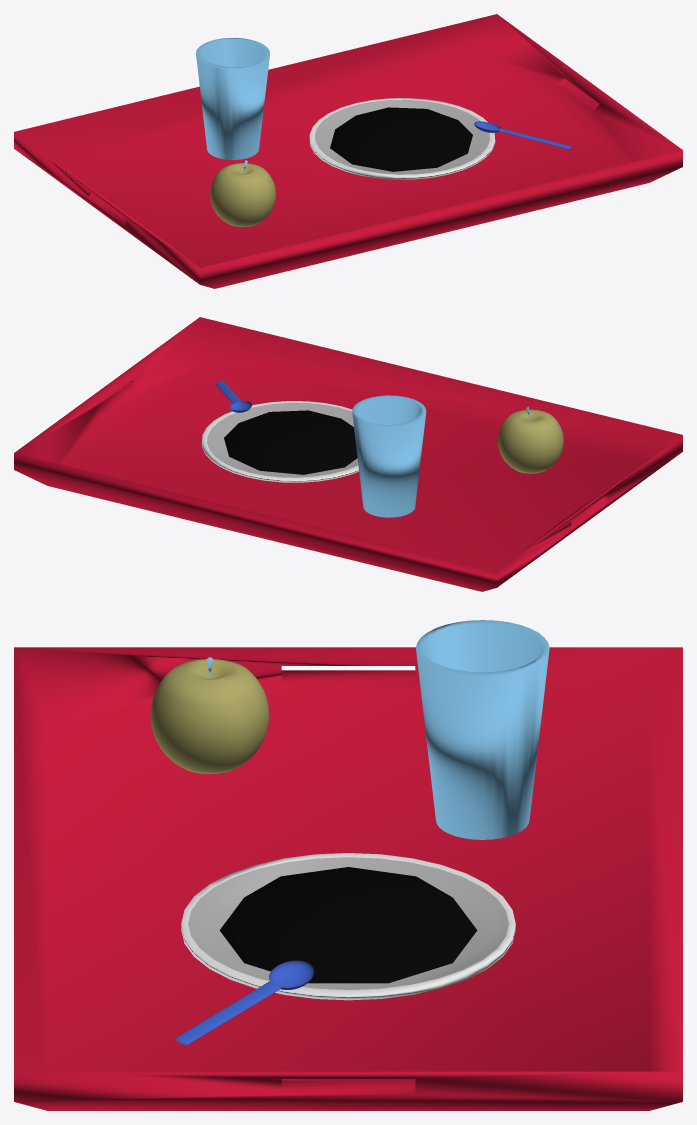
The model's file is Food Tray.fbx.
The picture shows the model from 3 angles, top to bottom: view 1: azimuth 30°, elevation 25°; view 2: azimuth 150°, elevation 25°; view 3: azimuth 270°, elevation 25°; orthographic projection. The views are drawn at different scales.
Visible parts, largest first — view 1: Cylinder; view 2: Cylinder; view 3: Cylinder.
Boxes of the visible parts, x1,y1,x2,y2 form: Cylinder: [14, 14, 682, 288]; Cylinder: [14, 317, 682, 591]; Cylinder: [14, 620, 682, 1110].
Size of the model in its own units: 600 by 134 by 400.
